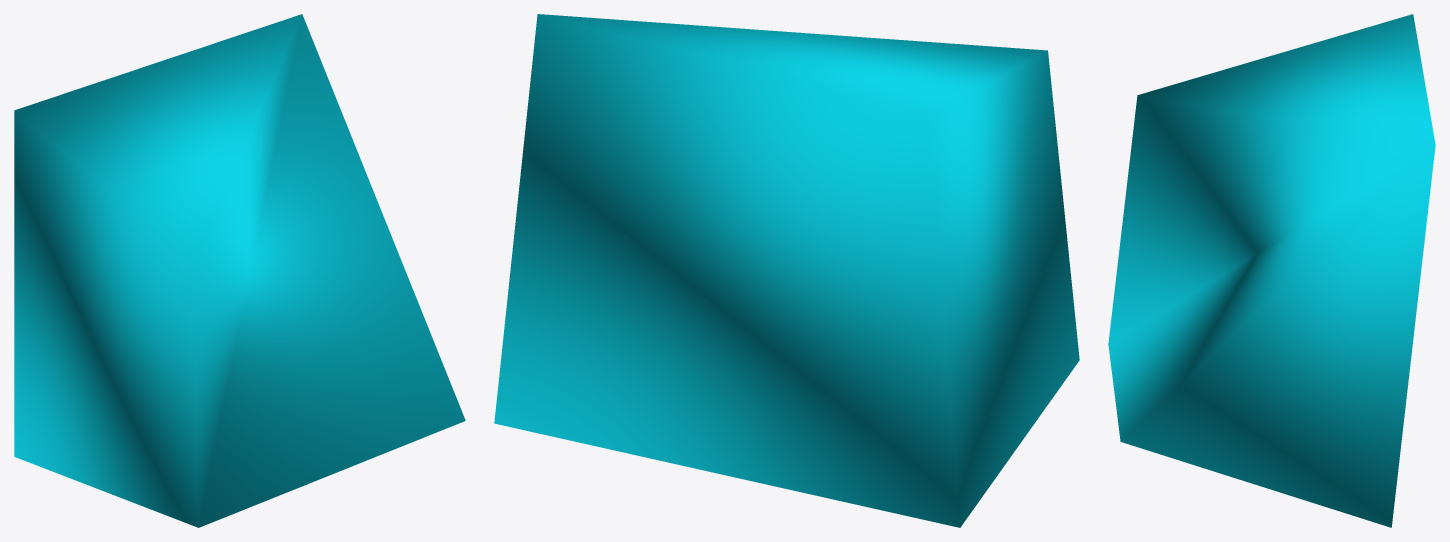
File: rock4.glb
3 views of the same model, side by side, from view 1: azimuth 30°, elevation 25°; view 2: azimuth 150°, elevation 25°; view 3: azimuth 270°, elevation 25° (orthographic). The views are drawn at different scales.
Visible parts, largest first — view 1: rock.003; view 2: rock.003; view 3: rock.003.
Part boxes in pixels (x1,y1,x2,y2): rock.003: [14, 14, 465, 527]; rock.003: [494, 14, 1079, 527]; rock.003: [1108, 14, 1435, 527].
Bounding box in the file's own units: 4.05 × 3.73 × 3.11.
